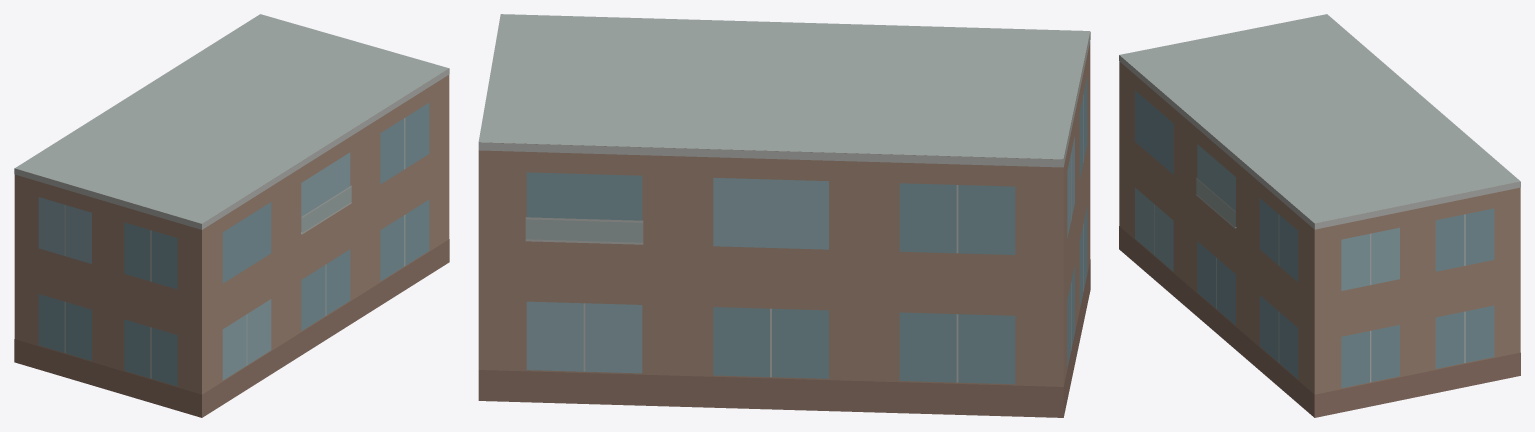
The model's file is survey-upis-32740654.glb.
3 renders of one model, left to right at view 1: azimuth 30°, elevation 25°; view 2: azimuth 150°, elevation 25°; view 3: azimuth 270°, elevation 25°, orthographic. The views are drawn at different scales.
Parts seen in each view (by area): view 1: survey-upis-32740654.tmp; view 2: survey-upis-32740654.tmp; view 3: survey-upis-32740654.tmp.
Part boxes in pixels (box(x1,y1,x2,y2)): survey-upis-32740654.tmp: box(14, 14, 449, 417); survey-upis-32740654.tmp: box(478, 14, 1090, 417); survey-upis-32740654.tmp: box(1119, 14, 1520, 417).
Bounding box in the file's own units: 18.05 × 7.8 × 14.62.
